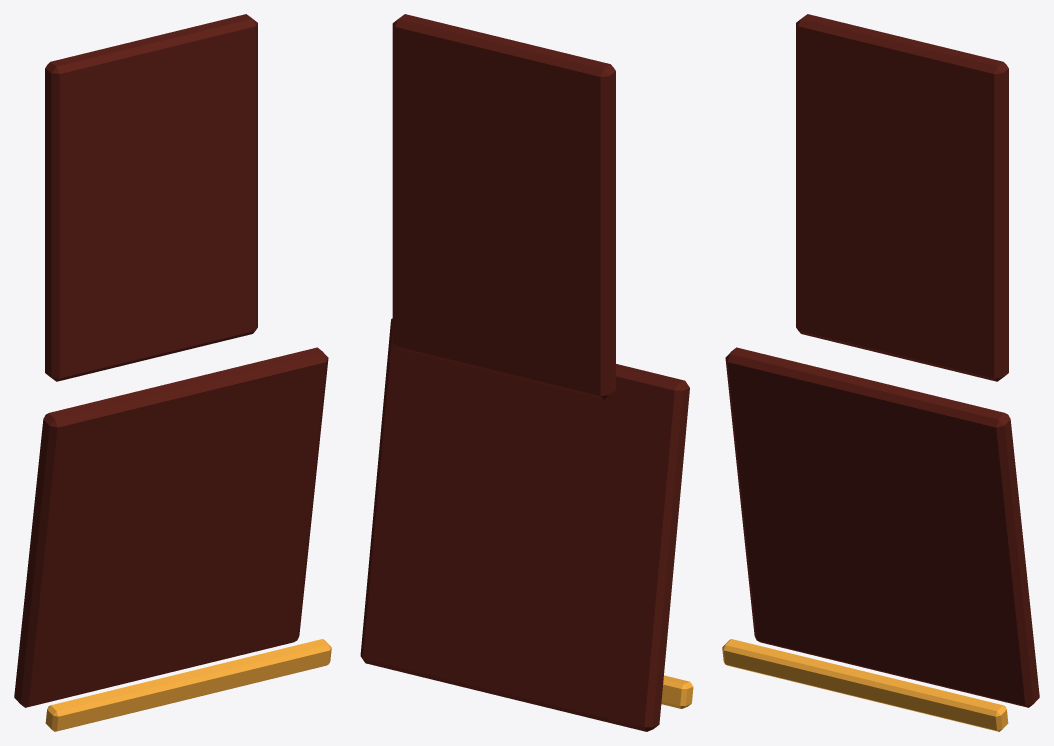
Rendered from robe_flap.glb.
3 renders of one model, left to right at view 1: azimuth 30°, elevation 25°; view 2: azimuth 150°, elevation 25°; view 3: azimuth 330°, elevation 25°, orthographic. The views are drawn at different scales.
Parts seen in each view (by area): view 1: part.robe_flap; view 2: part.robe_flap; view 3: part.robe_flap.
Part boxes in pixels (box(x1,y1,x2,y2)): part.robe_flap: box(14, 14, 331, 731); part.robe_flap: box(360, 14, 693, 731); part.robe_flap: box(722, 14, 1039, 731).
Bounding box in the file's own units: 0.324 × 0.6994 × 0.0988.
